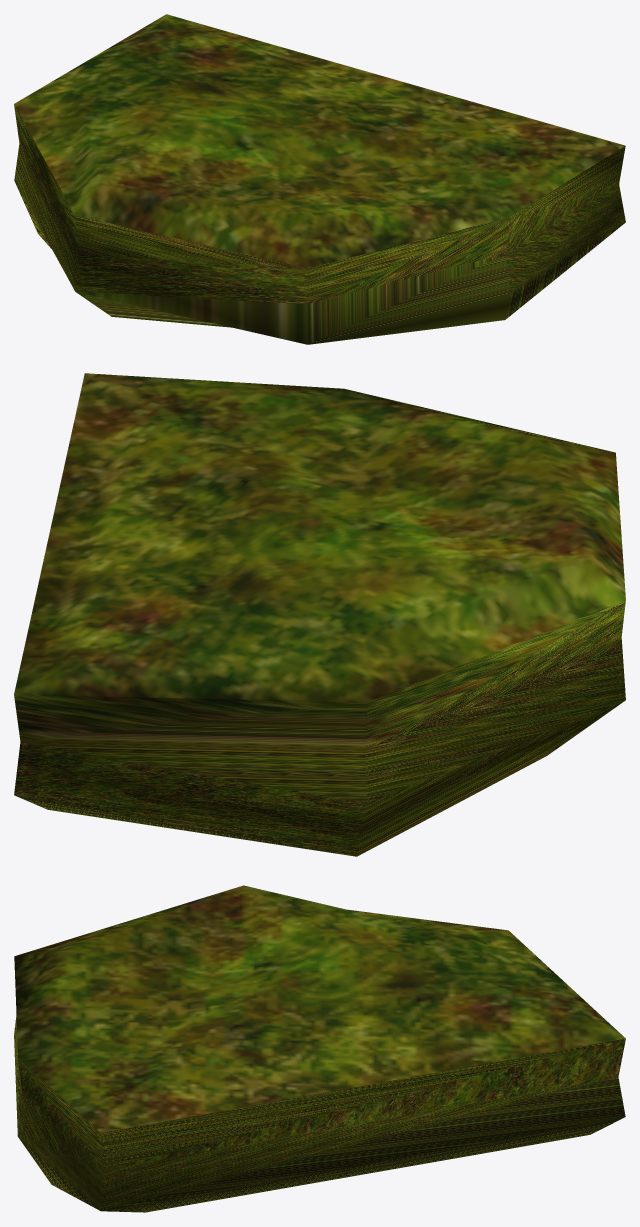
The model's file is TROLLHOLE02_RM_FALL_ROCK06.fbx.
3 views of the same model, one above another, from view 1: azimuth 30°, elevation 25°; view 2: azimuth 150°, elevation 25°; view 3: azimuth 270°, elevation 25° (orthographic). The views are drawn at different scales.
Visible parts, largest first — view 1: TROLLHOLE02_RM_FALL_ROCK06; view 2: TROLLHOLE02_RM_FALL_ROCK06; view 3: TROLLHOLE02_RM_FALL_ROCK06.
Boxes of the visible parts, <box> form: TROLLHOLE02_RM_FALL_ROCK06: <box>14,14,625,344</box>; TROLLHOLE02_RM_FALL_ROCK06: <box>14,373,625,856</box>; TROLLHOLE02_RM_FALL_ROCK06: <box>14,885,625,1212</box>.
Bounding box in the file's own units: 19711 × 7349 × 21238.
Materials: 1 (1 with a texture image).
